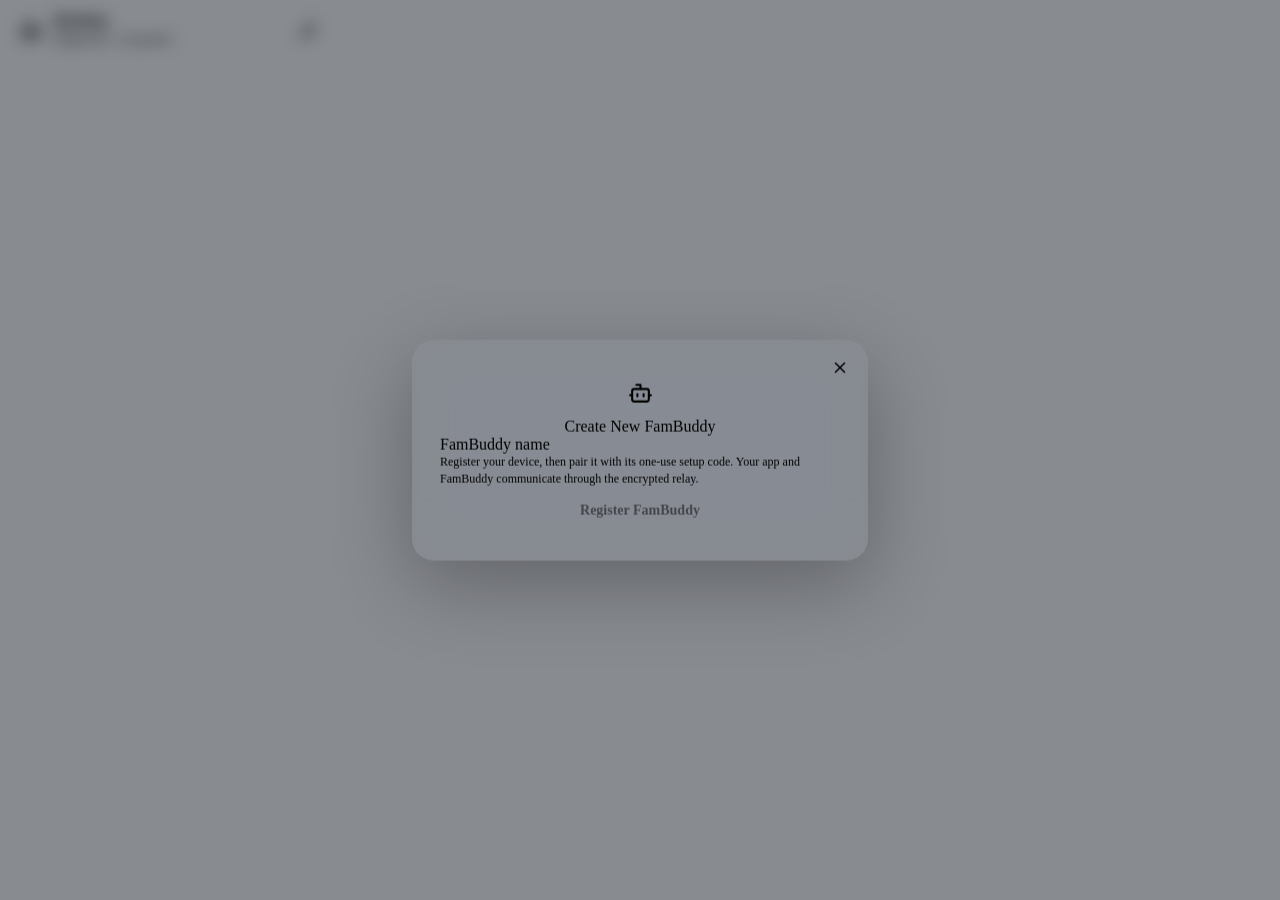
Test case: registers a trimmed name and closes the modal
Expected: the heading "Kitchen" is shown, [54,12,108,29]
Type " Kitchen updated " into the field labelled "FamBuddy name".
click(640, 445); type(" Kitchen updated ")  # box [440,436,840,454]
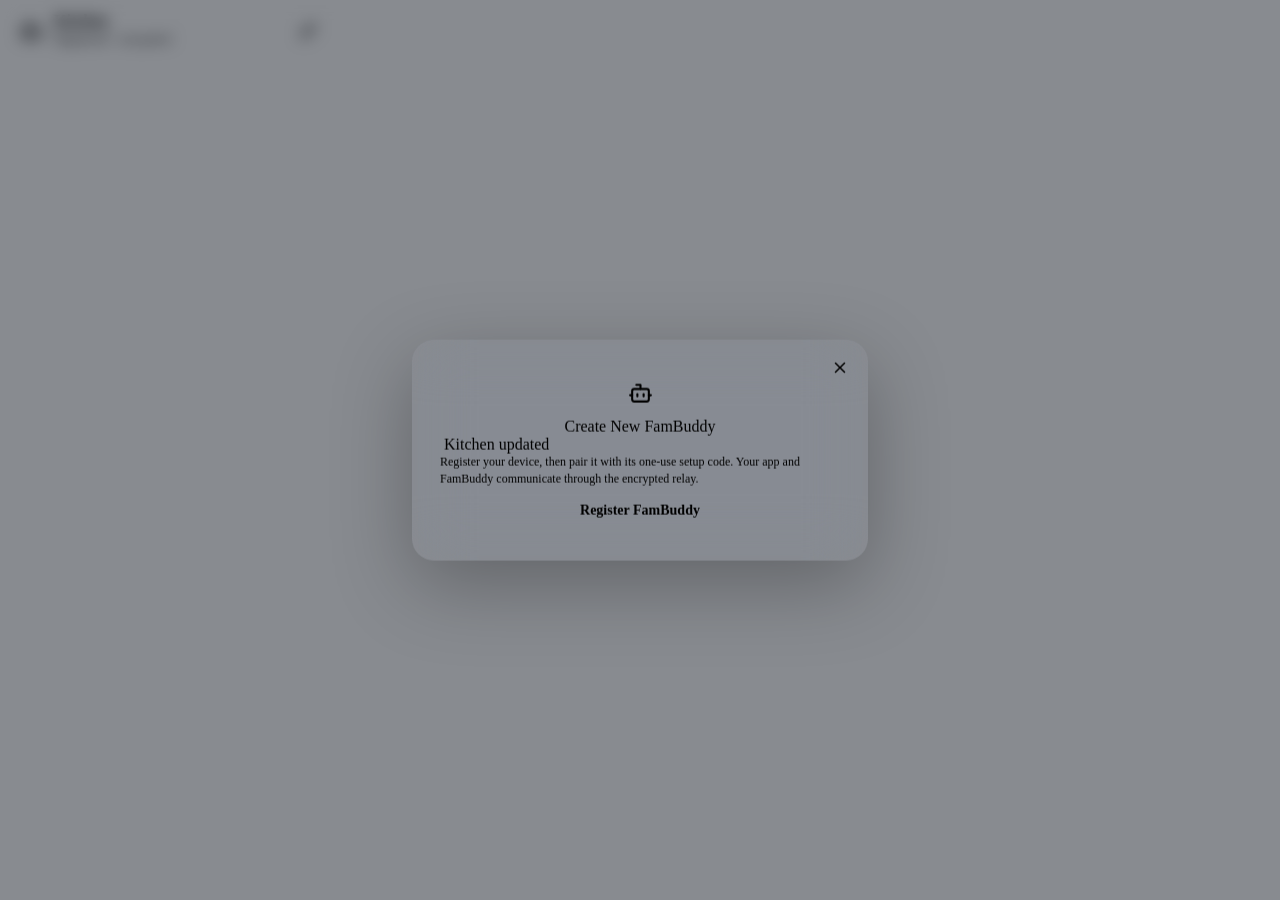
Click the button "Register FamBuddy".
click(640, 510)  # box [440,488,840,532]
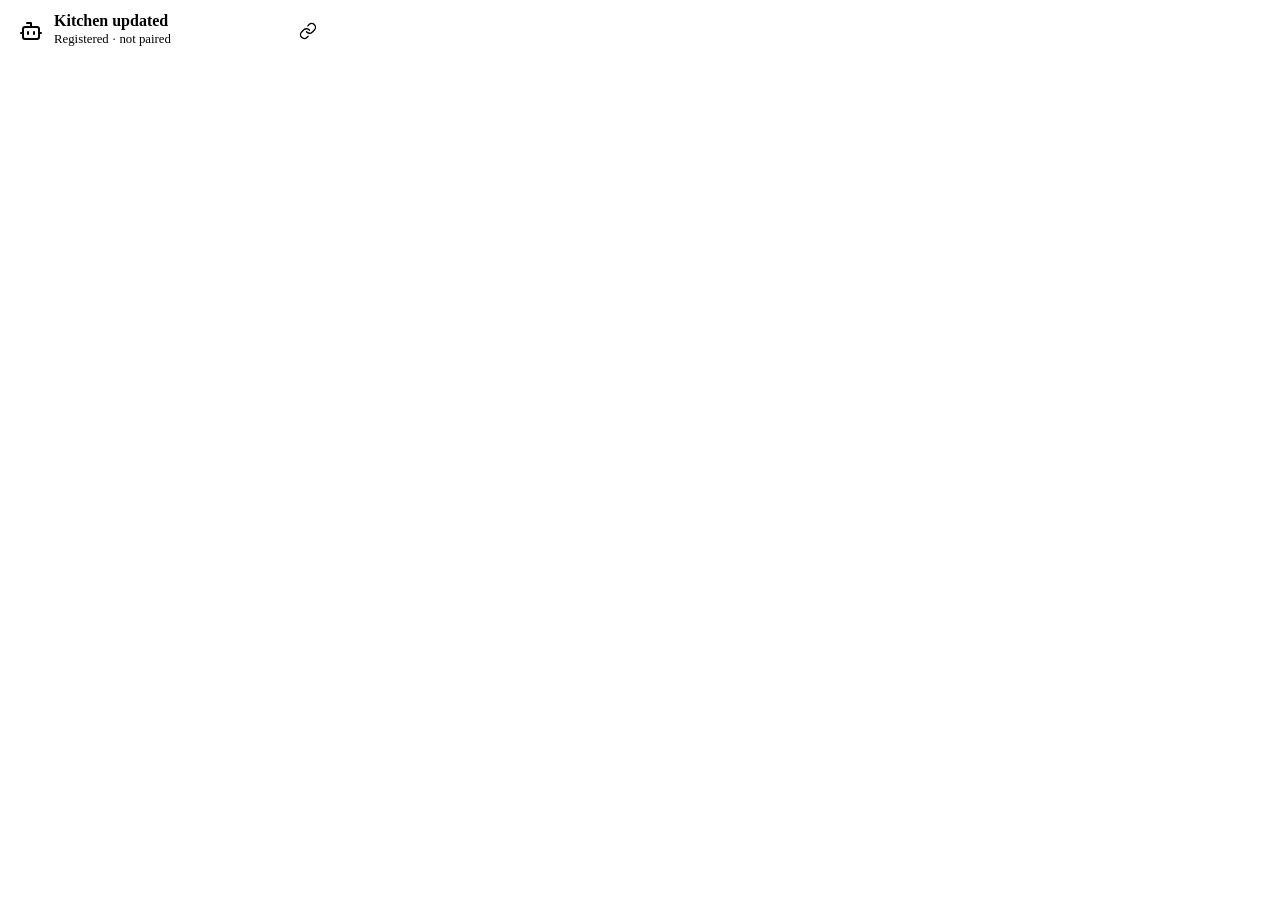
Expected: the heading "Kitchen updated" is shown, [54,12,168,29]
Expected: the dialog is gone
